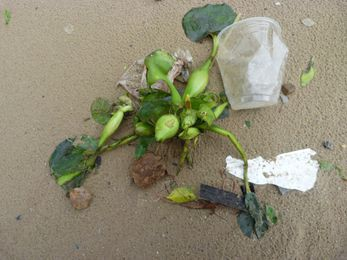water_hyacinth: (47, 2, 278, 240)
